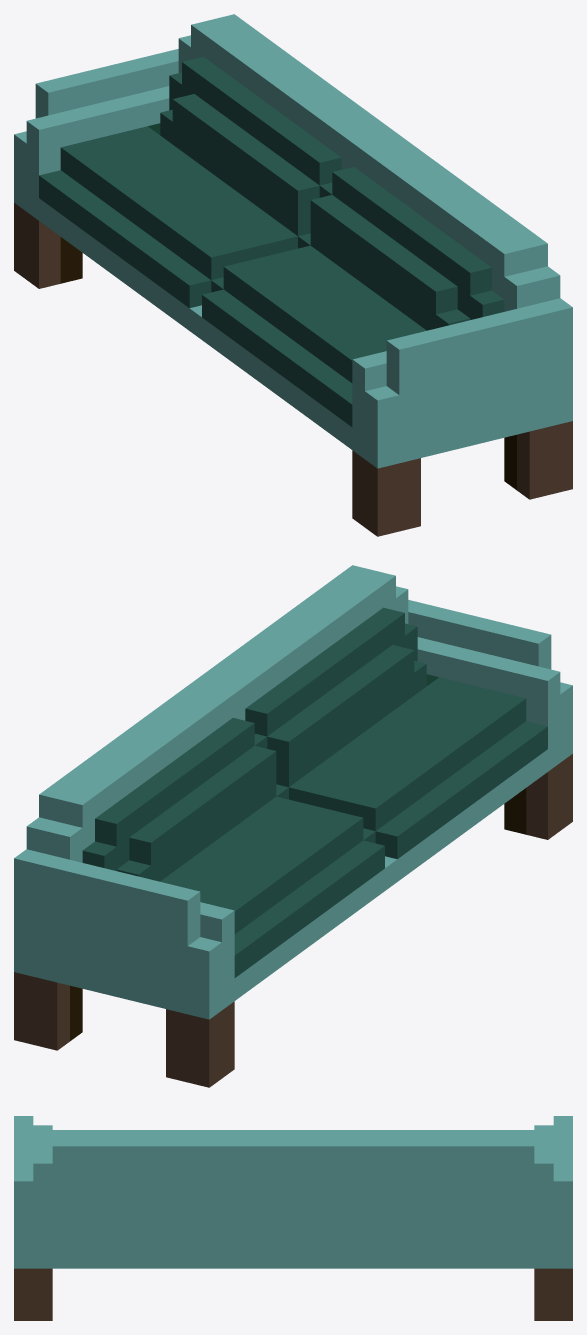
The model's file is couch.obj.
3 views of the same model, one above another, from view 1: azimuth 30°, elevation 25°; view 2: azimuth 150°, elevation 25°; view 3: azimuth 270°, elevation 25° (orthographic). The views are drawn at different scales.
Parts seen in each view (by area): view 1: couch; view 2: couch; view 3: couch.
Boxes of the visible parts, <box> form: couch: <box>14,14,572,536</box>; couch: <box>14,565,572,1087</box>; couch: <box>14,1116,572,1320</box>.
Bounding box in the file's own units: 9 × 10 × 29.
Materials: 1 (1 with a texture image).
